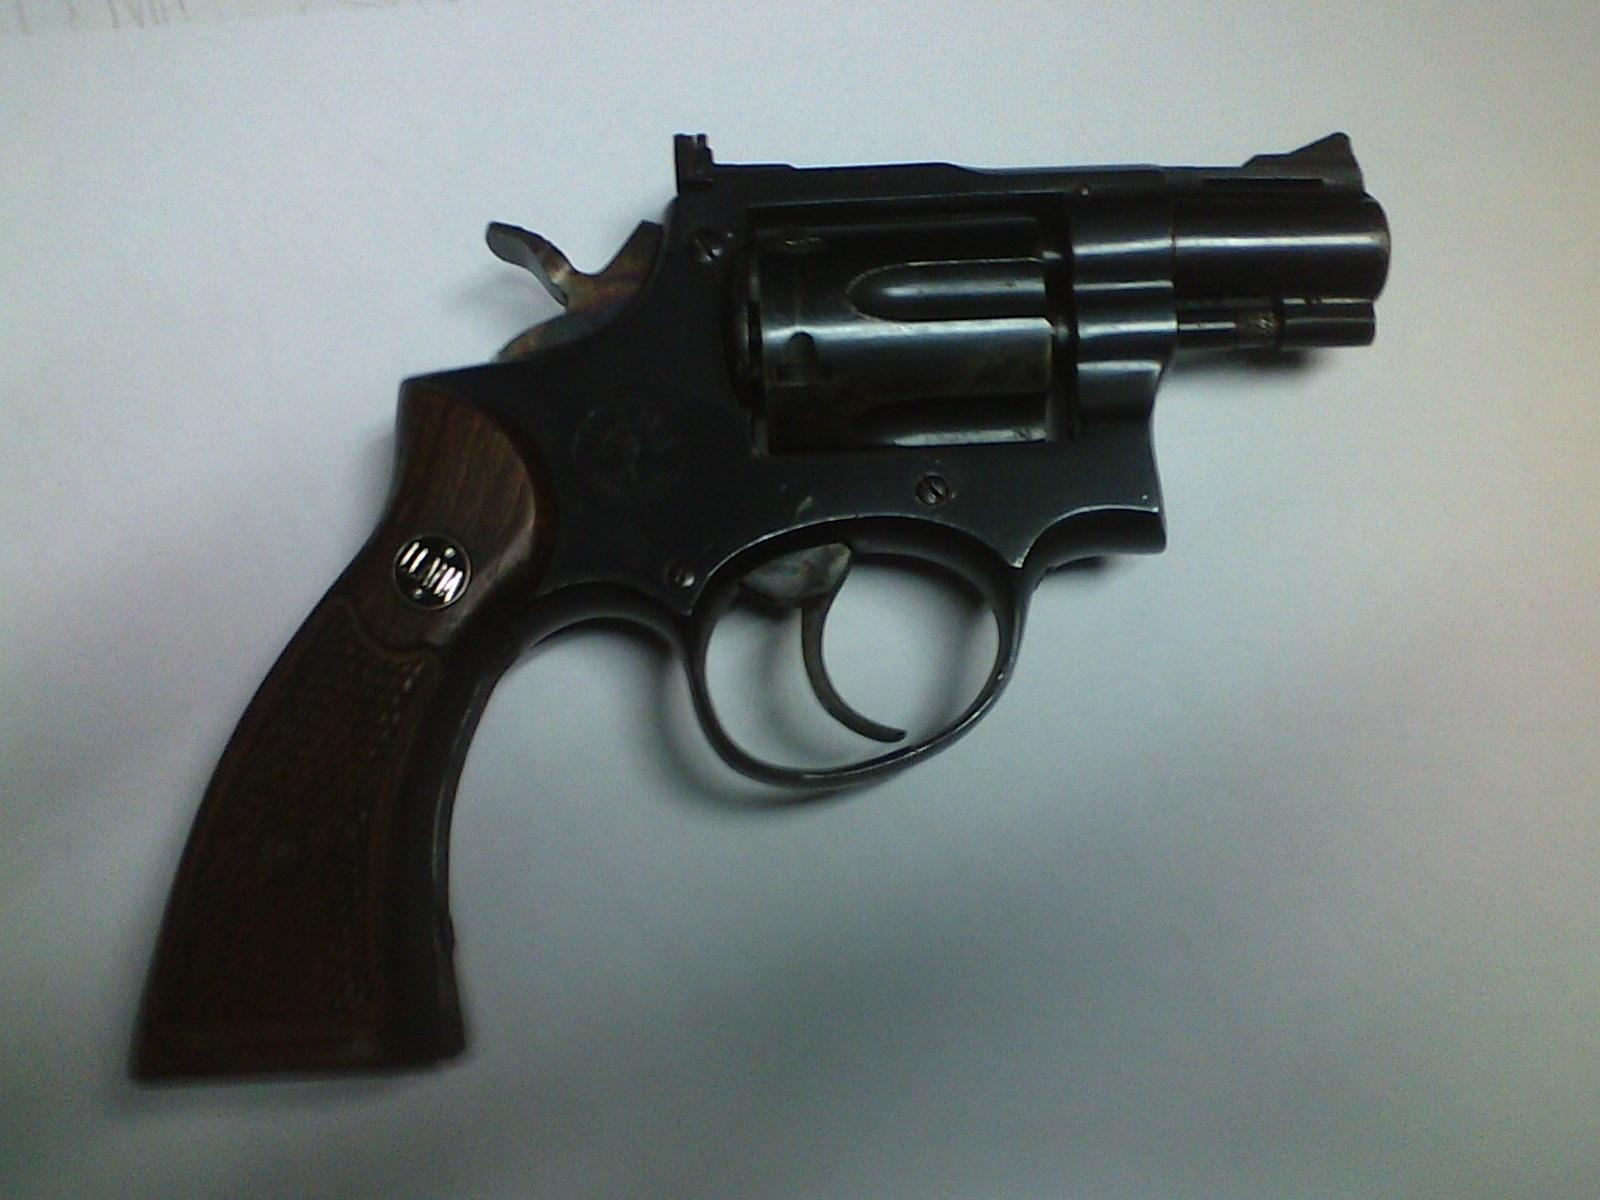gun: (26, 24, 1514, 1133)
